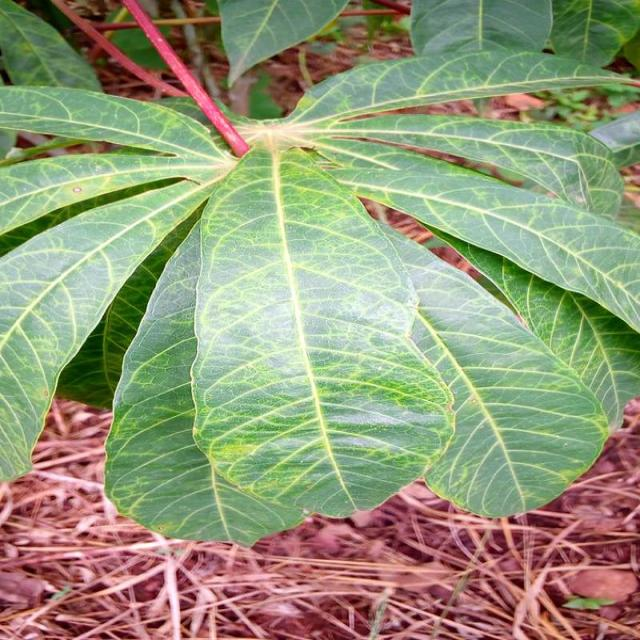cassava leaf: (1, 1, 638, 549)
